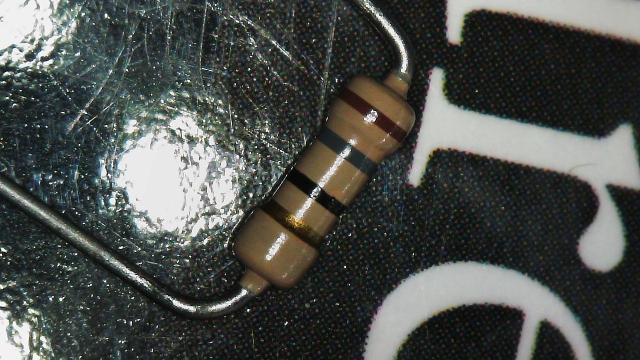black: (286, 168, 347, 217)
brown: (338, 86, 408, 142)
gold: (263, 198, 328, 253)
grey: (317, 132, 377, 176)
resistor: (197, 42, 455, 327)
